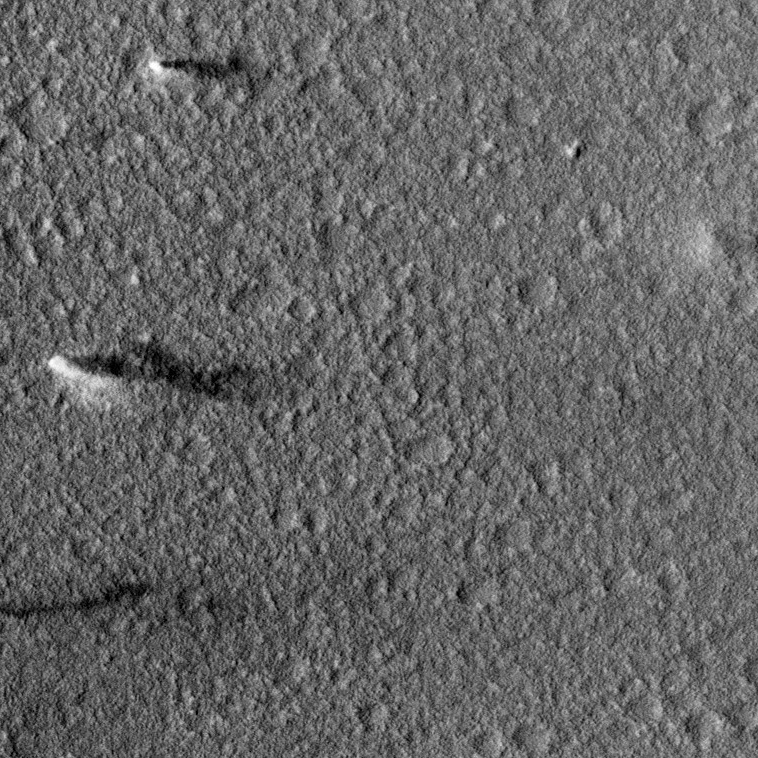dust_devil: (45, 337, 255, 408), (145, 54, 250, 83)
